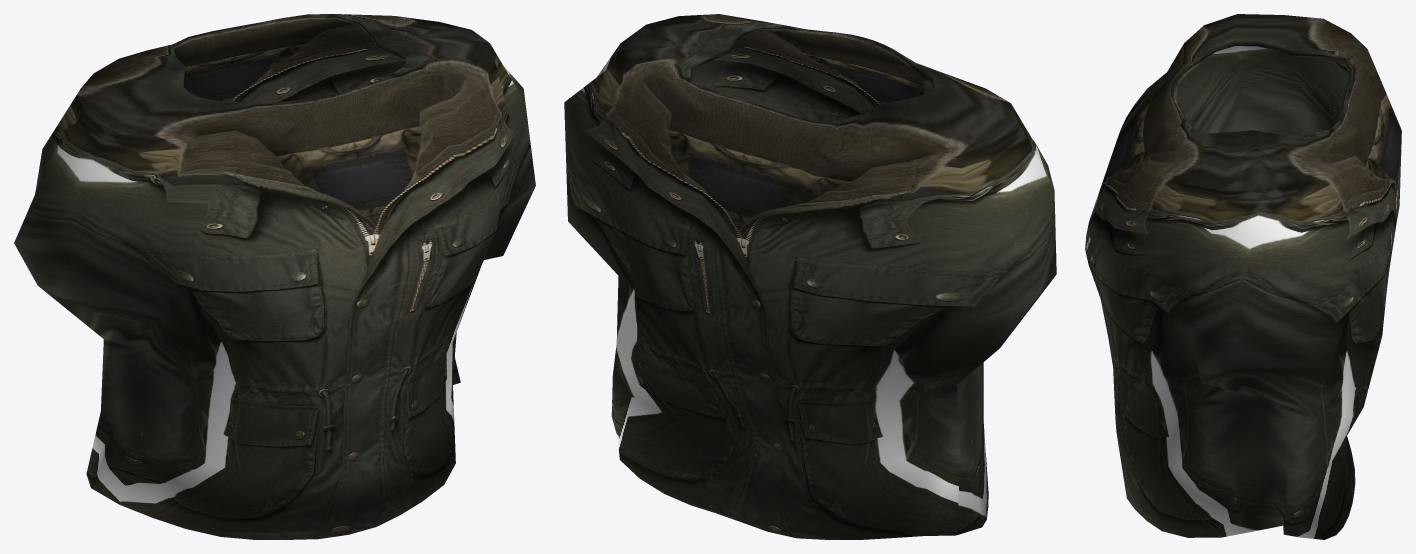
File: 5ce78c80-c0e6-4add-9142-50b423f20314.glb
3 renders of one model, left to right at view 1: azimuth 30°, elevation 25°; view 2: azimuth 150°, elevation 25°; view 3: azimuth 270°, elevation 25°, orthographic. The views are drawn at different scales.
Parts seen in each view (by area): view 1: garment; view 2: garment; view 3: garment.
Boxes of the visible parts, x1=… form: garment: x1=14, y1=14, x2=535, y2=539; garment: x1=564, y1=14, x2=1056, y2=539; garment: x1=1085, y1=14, x2=1401, y2=539.
Size of the model in its own units: 0.5641 by 0.4761 by 0.3413.
Materials: 1 (1 with a texture image).
